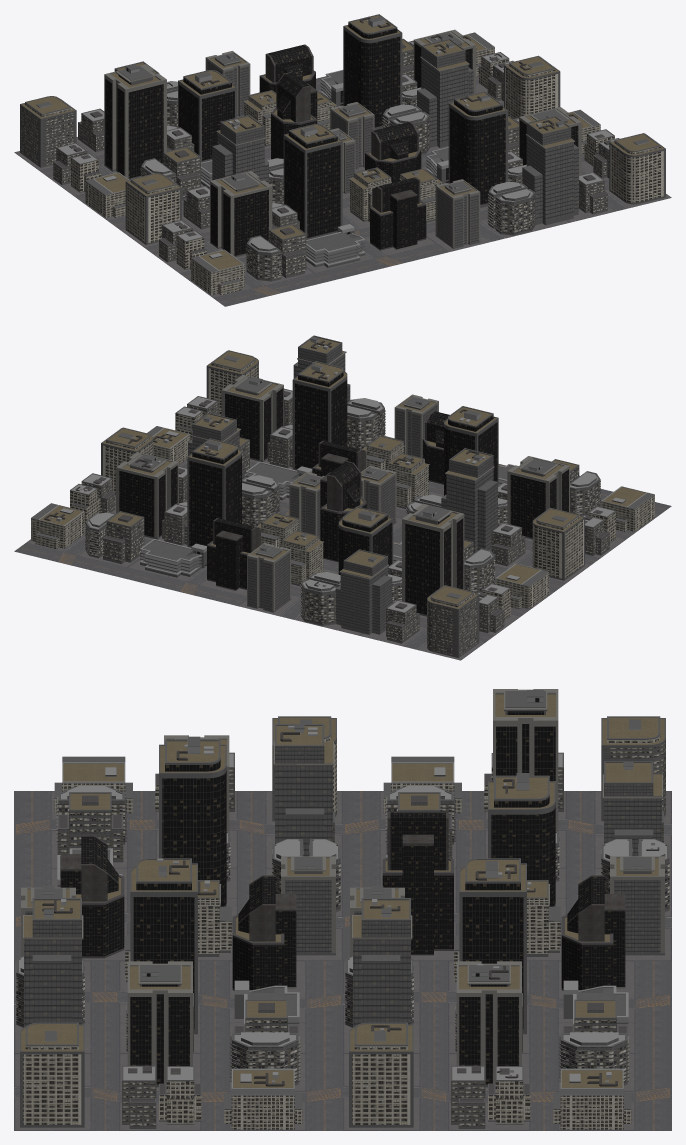
The model's file is BuildingSphere_3.gltf.
3 views of the same model, one above another, from view 1: azimuth 30°, elevation 25°; view 2: azimuth 150°, elevation 25°; view 3: azimuth 270°, elevation 25° (orthographic). The views are drawn at different scales.
Parts seen in each view (by area): view 1: cityPiece4; view 2: cityPiece4; view 3: cityPiece4.
Boxes of the visible parts, bbox=[...] form: cityPiece4: bbox=[14, 14, 671, 306]; cityPiece4: bbox=[14, 335, 671, 660]; cityPiece4: bbox=[14, 689, 671, 1130].
Size of the model in its own units: 792 by 173 by 648.
7 materials, 7 textured.
